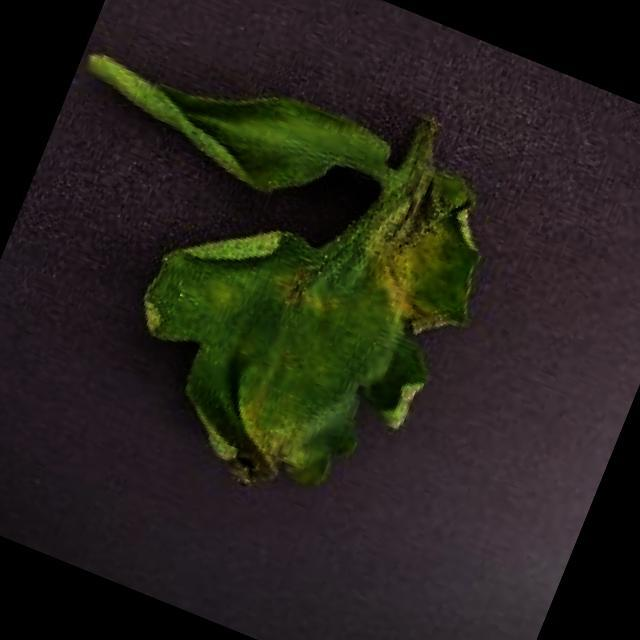Tomato late blight leaf: (87, 69, 523, 544), (68, 18, 398, 232)
